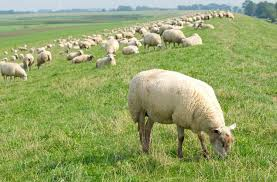sheep: (129, 69, 234, 162), (1, 59, 29, 86), (161, 28, 191, 48), (66, 53, 98, 69), (99, 38, 123, 58), (143, 31, 165, 52), (19, 52, 42, 72), (96, 53, 119, 72), (178, 34, 203, 47), (121, 43, 141, 58), (37, 51, 53, 68), (64, 50, 87, 60), (152, 20, 175, 30), (184, 13, 204, 24), (78, 35, 94, 48), (133, 23, 152, 33), (115, 29, 132, 40), (171, 16, 186, 28), (194, 21, 213, 30), (59, 40, 76, 50), (207, 9, 218, 19), (223, 10, 235, 17)
